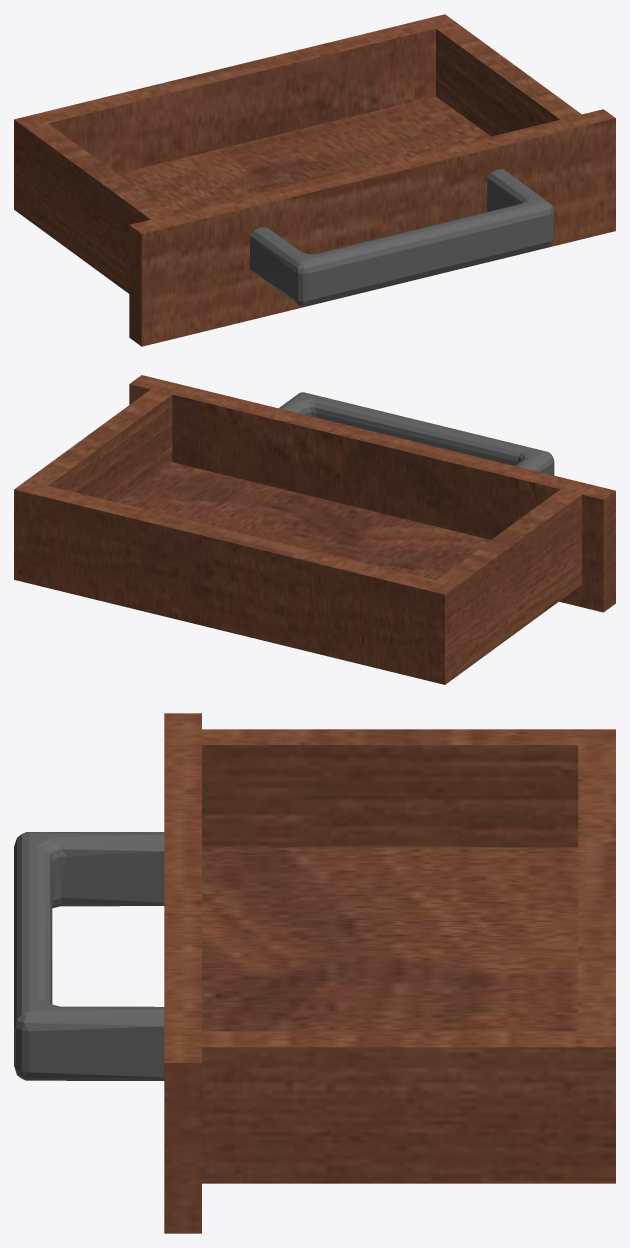
File: drawer_link.obj
3 renders of one model, top to bottom at view 1: azimuth 30°, elevation 25°; view 2: azimuth 150°, elevation 25°; view 3: azimuth 270°, elevation 25°, orthographic. The views are drawn at different scales.
Visible parts, largest first — view 1: drawer_link; view 2: drawer_link; view 3: drawer_link.
Boxes of the visible parts, bbox=[...] form: drawer_link: bbox=[14, 14, 615, 346]; drawer_link: bbox=[14, 375, 615, 684]; drawer_link: bbox=[14, 713, 615, 1233].
Size of the model in its own units: 0.55 by 0.125 by 0.4.
Materials: 1 (1 with a texture image).
